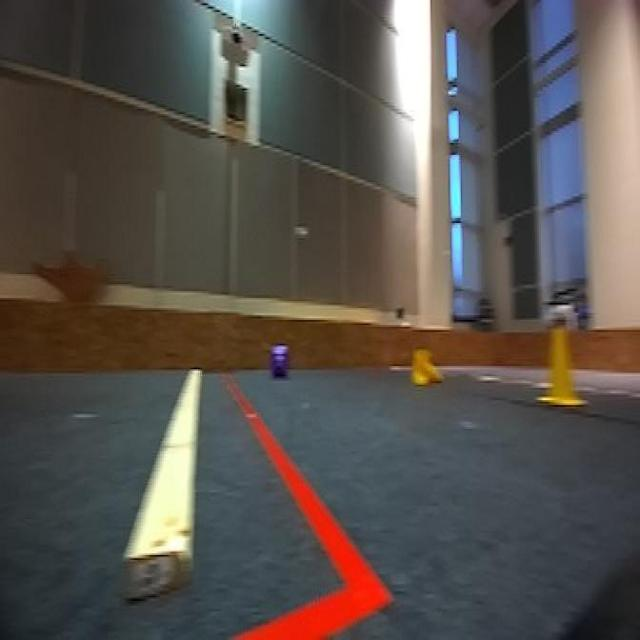frc_cone: (535, 322, 584, 410), (406, 346, 444, 388)
frc_cube: (270, 346, 290, 380)
